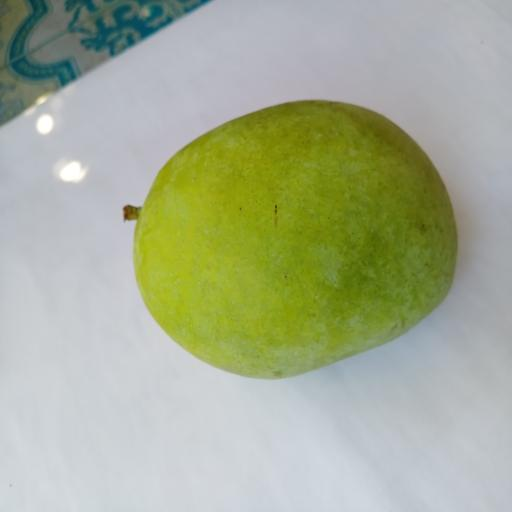mango-unripe: (110, 91, 466, 389)
